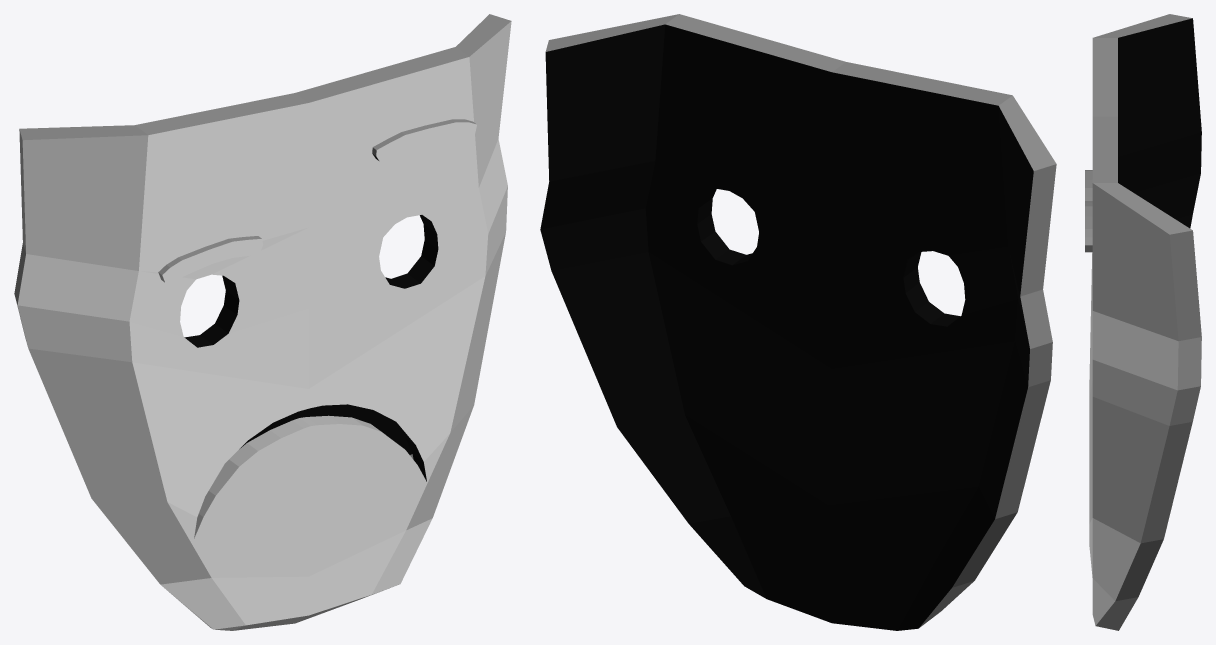
The model's file is ConfusionMask.fbx.
The picture shows the model from 3 angles, left to right: view 1: azimuth 30°, elevation 25°; view 2: azimuth 150°, elevation 25°; view 3: azimuth 270°, elevation 25°; orthographic projection. The views are drawn at different scales.
Visible parts, largest first — view 1: Cube; view 2: Cube; view 3: Cube.
Boxes of the visible parts, box(x1,y1,x2,y2) form: Cube: box(14, 14, 511, 630); Cube: box(540, 14, 1056, 630); Cube: box(1085, 14, 1201, 630).
Bounding box in the file's own units: 342 × 358 × 76.33.
